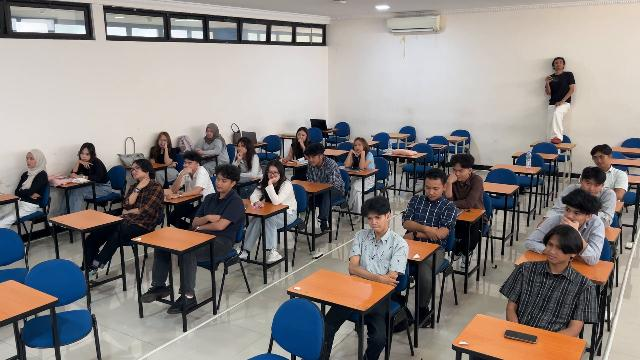bingung: (546, 239, 565, 263), (424, 181, 441, 200), (367, 215, 385, 232), (564, 204, 581, 221), (583, 180, 601, 194), (215, 175, 229, 192), (453, 166, 466, 180), (593, 154, 608, 166), (131, 164, 143, 178), (268, 167, 279, 179), (26, 153, 35, 167), (80, 150, 90, 161), (354, 141, 363, 152), (237, 143, 246, 153), (308, 156, 318, 165), (159, 135, 167, 146), (298, 131, 306, 141), (207, 129, 213, 138)
